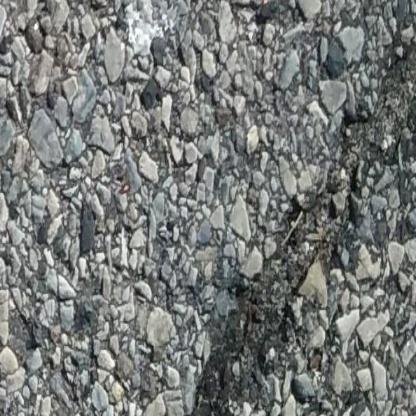Cracks: (146, 0, 416, 416)
